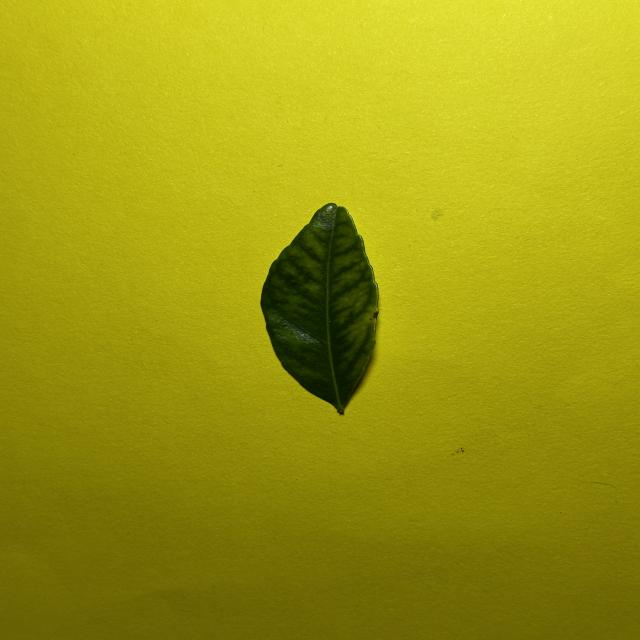greening: (261, 203, 378, 412)
